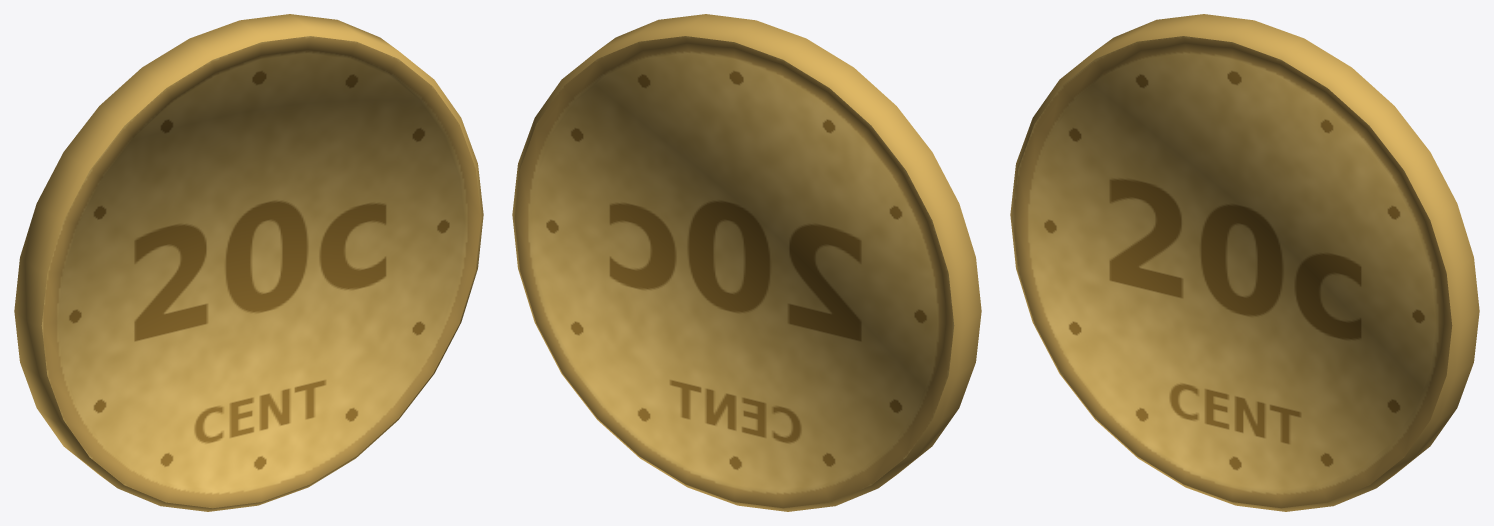
File: Coin_20Cent.obj
The picture shows the model from 3 angles, left to right: view 1: azimuth 30°, elevation 25°; view 2: azimuth 150°, elevation 25°; view 3: azimuth 330°, elevation 25°; orthographic projection.
Size of the model in its own units: 0.0223 by 0.0223 by 0.00214.
2 materials, 1 textured.
